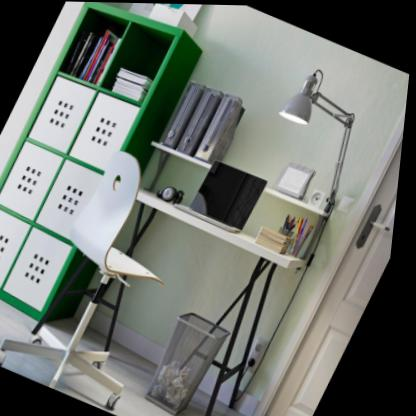Chair: (0, 135, 231, 415)
